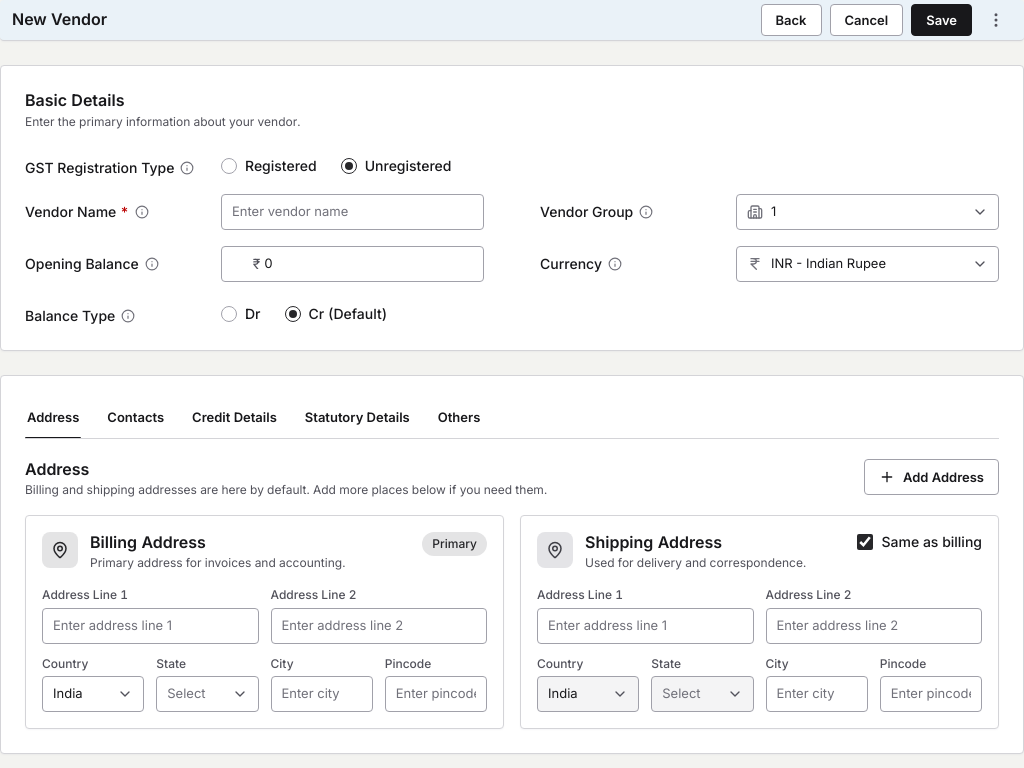
Test: what is genuinely different › offers a purchase price list rather than a sales one
Click the tab "Credit Details" at (234, 419), box [190,400,279,438]
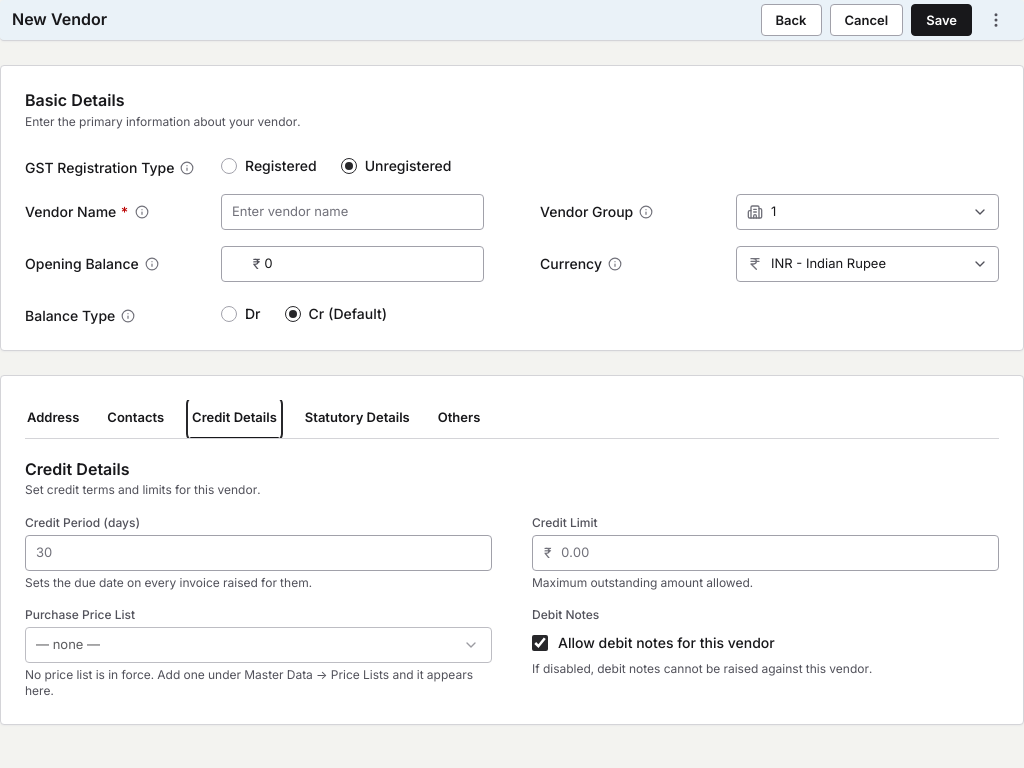
Check: the dropdown labelled "Purchase Price List" is shown, box [25,627,492,663]
